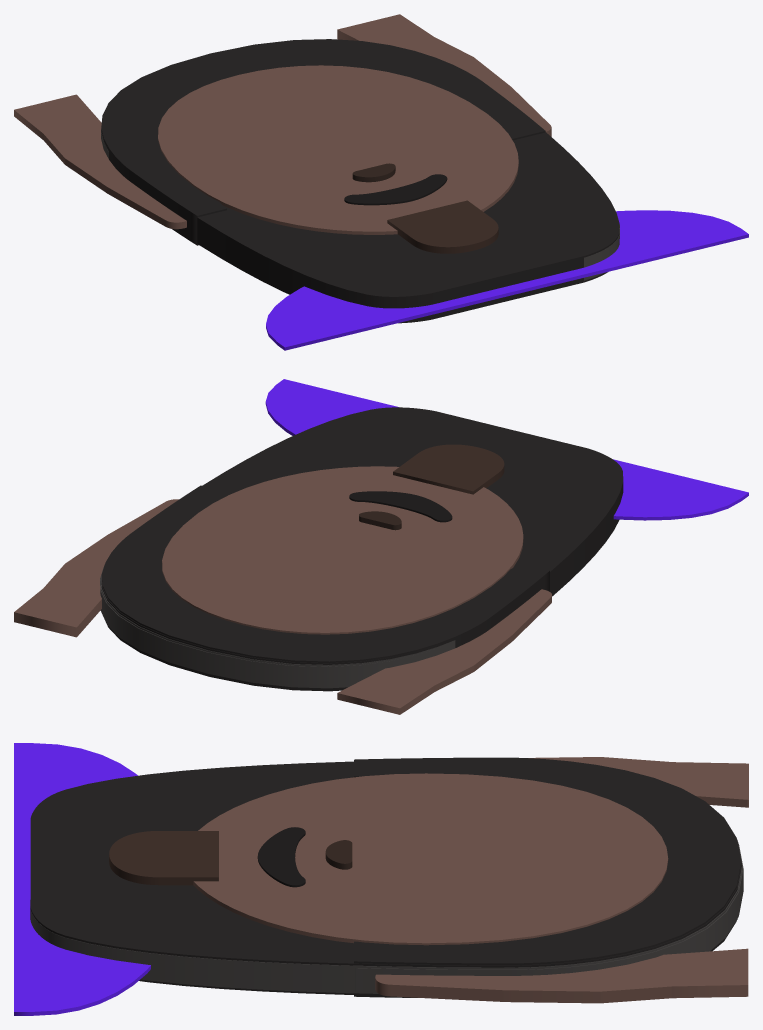
Rendered from emoji_u1f486_1f3ff_200d_2640.glb.
3 views of the same model, one above another, from view 1: azimuth 30°, elevation 25°; view 2: azimuth 150°, elevation 25°; view 3: azimuth 270°, elevation 25° (orthographic). The views are drawn at different scales.
Visible parts, largest first — view 1: emoji_u1f486_1f3ff_200d_2640; view 2: emoji_u1f486_1f3ff_200d_2640; view 3: emoji_u1f486_1f3ff_200d_2640.
Part boxes in pixels (x1,y1,x2,y2): emoji_u1f486_1f3ff_200d_2640: (14,14,748,350); emoji_u1f486_1f3ff_200d_2640: (14,379,748,714); emoji_u1f486_1f3ff_200d_2640: (14,743,748,1015).
Size of the model in its own units: 0.0294 by 0.0026 by 0.0339.
